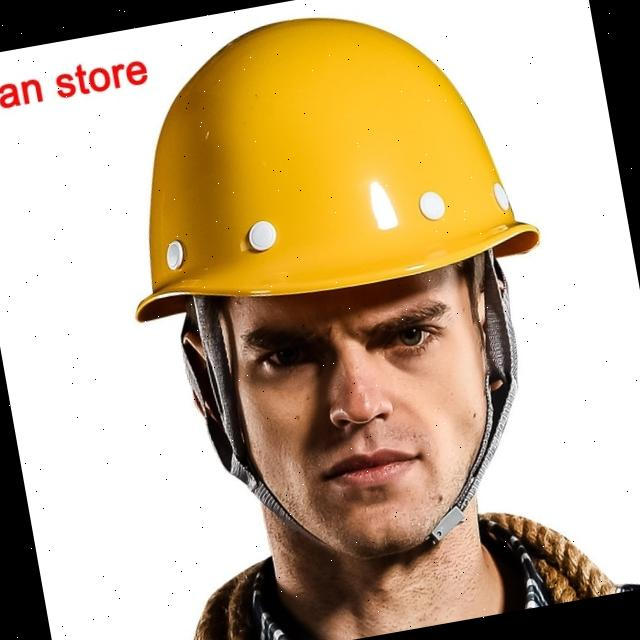helmet: (84, 0, 547, 338)
